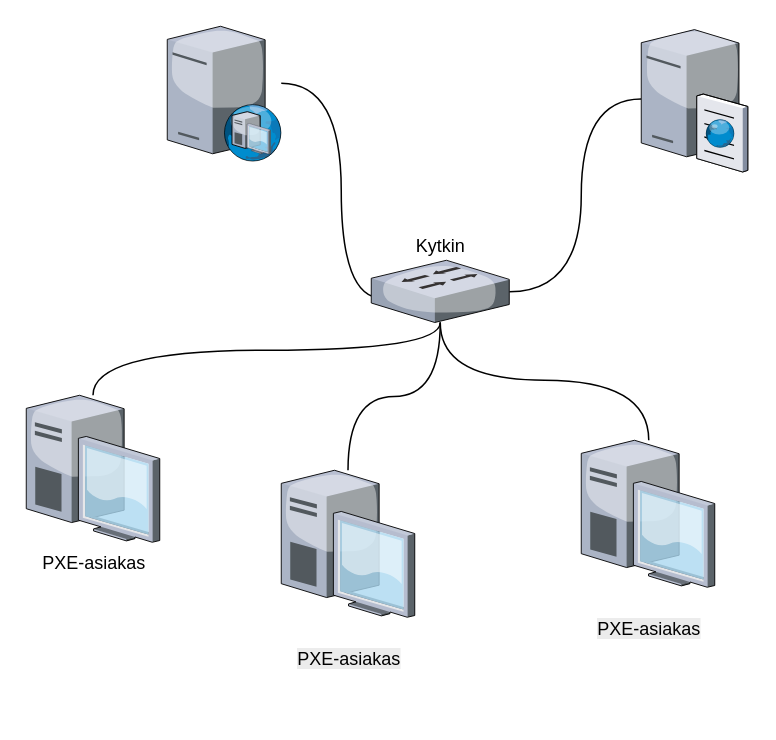
Some shapes in this 776 by 740 pixel diagram are drawn without their labels. Each missing label, with the box of its shape:
DHCP-palvelin: (166, 26, 280, 160)
TFTP-palvelin: (640, 26, 747, 171)
